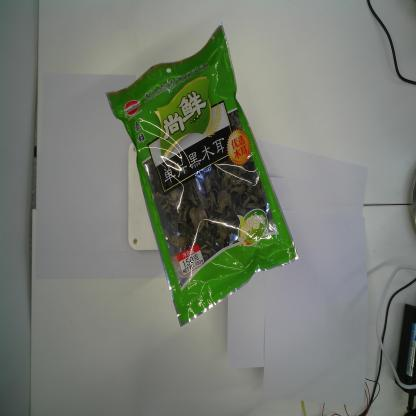Dried Food: (105, 19, 300, 331)
